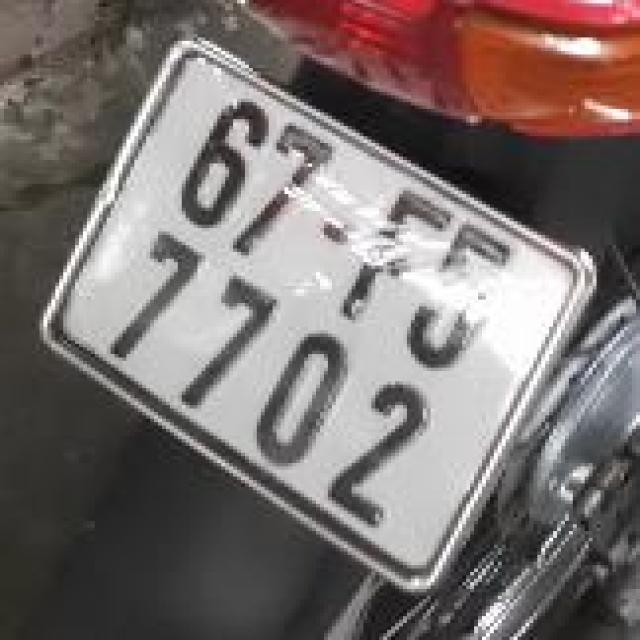0: (225, 311, 384, 489)
2: (291, 365, 469, 558)
5: (376, 205, 544, 397)
6: (152, 80, 294, 245)
7: (201, 102, 352, 280), (81, 218, 229, 382), (143, 268, 284, 432)
F: (310, 175, 473, 344)
